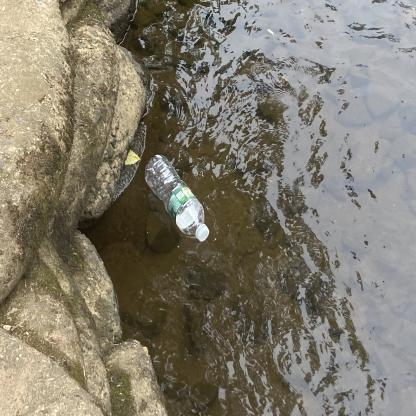trash: (142, 152, 214, 250)
